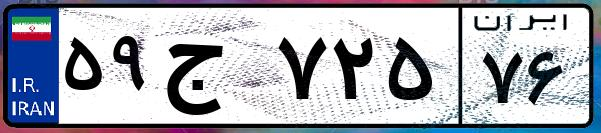2: (330, 28, 385, 110)
5: (385, 28, 445, 110), (57, 26, 110, 100)
6: (525, 38, 570, 115)
7: (270, 28, 330, 110), (475, 38, 525, 113)
9: (110, 28, 158, 98)
ج: (158, 20, 270, 120)
